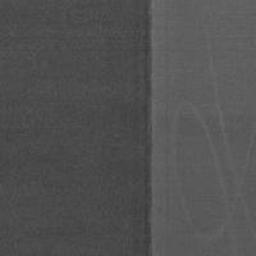Welding line: (146, 0, 155, 256)
